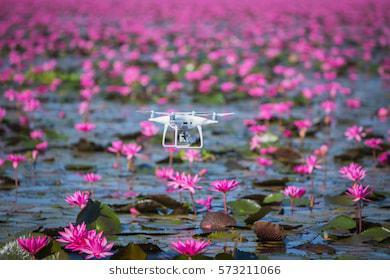drone: (135, 98, 238, 157)
